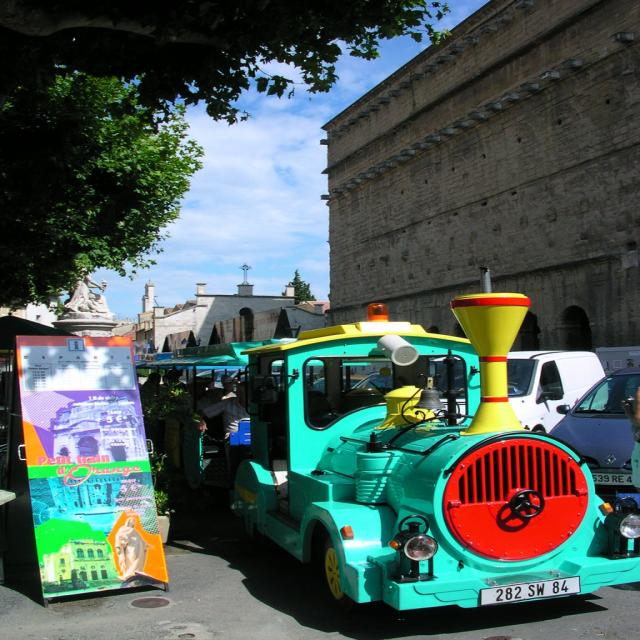other: (543, 363, 639, 497)
